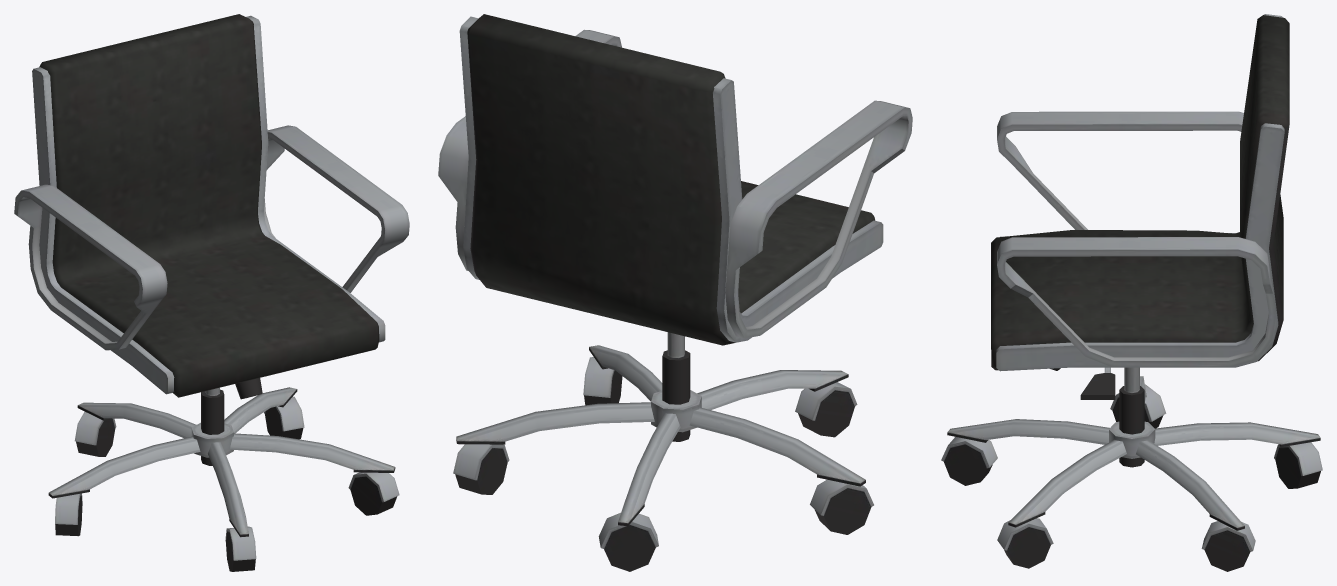
File: office_chair.glb
The picture shows the model from 3 angles, left to right: view 1: azimuth 30°, elevation 25°; view 2: azimuth 150°, elevation 25°; view 3: azimuth 270°, elevation 25°; orthographic projection. The views are drawn at different scales.
Visible parts, largest first — view 1: OfficeChair_Modern_OfficeChair_Modern_0; view 2: OfficeChair_Modern_OfficeChair_Modern_0; view 3: OfficeChair_Modern_OfficeChair_Modern_0.
Boxes of the visible parts, x1,y1,x2,y2 form: OfficeChair_Modern_OfficeChair_Modern_0: (14,14,409,571); OfficeChair_Modern_OfficeChair_Modern_0: (438,14,912,571); OfficeChair_Modern_OfficeChair_Modern_0: (941,14,1322,571).
Bounding box in the file's own units: 0.7204 × 0.9662 × 0.7598.
1 material, 1 textured.
